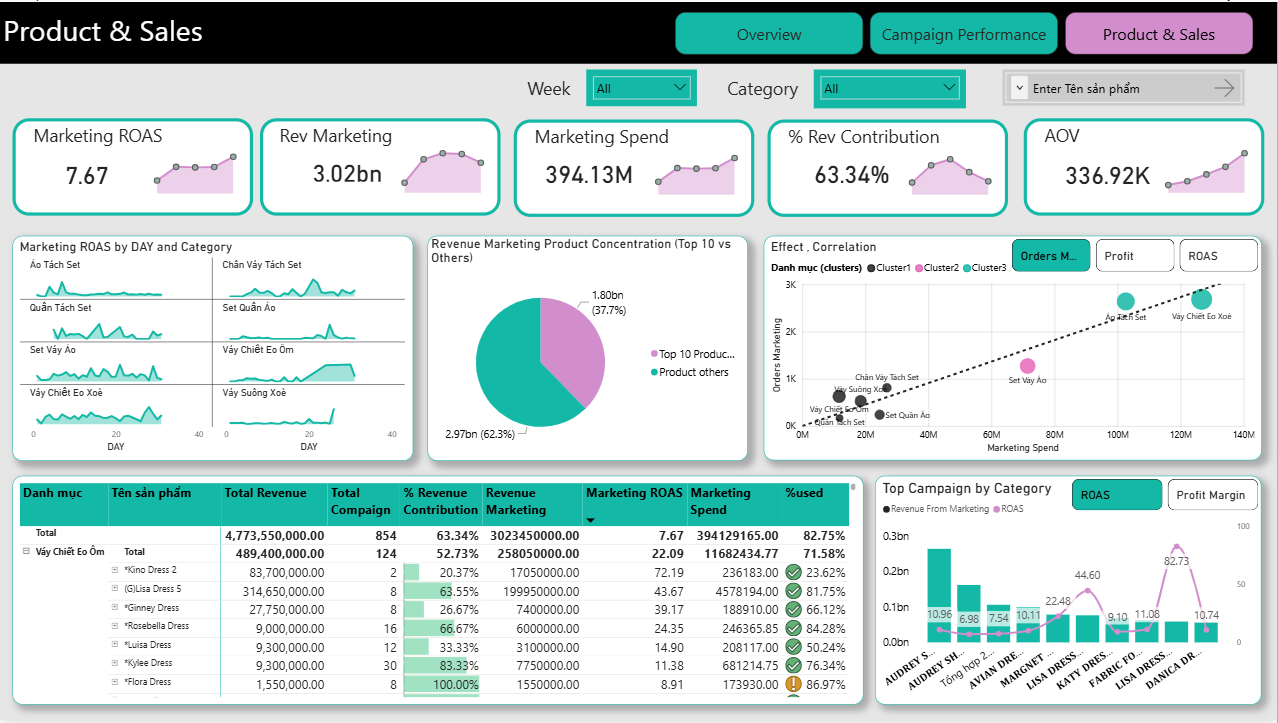

Layout of this report page (visuals, bound fields, positions):
{"tool":"powerbi","page":{"name":"Product & Sales ","canvas":[1920,1080],"ordinal":2},"visuals":[{"type":"textbox","box":[0,0,1920,93],"z":0},{"type":"textbox","box":[787.3,107.1,111.6,43.3],"z":0,"group":"g9"},{"type":"textbox","box":[1087.4,107.2,157.2,44.4],"z":0,"group":"g8"},{"type":"shape","box":[391.5,175.6,361.6,146.6],"z":0,"group":"g2"},{"type":"shape","box":[1539.1,175.6,361.6,146.6],"z":0,"group":"g5"},{"type":"group","id":"g1","title":"Group 1","box":[18.9,176.2,361.6,146.6],"z":0,"group":"g10"},{"type":"shape","box":[18.9,176.2,361.6,146.6],"z":0,"group":"g1"},{"type":"shape","box":[773,177.5,361.6,146.6],"z":0,"group":"g3"},{"type":"shape","box":[1153.9,177.5,361.6,146.6],"z":0,"group":"g4"},{"type":"scatterChart","title":"Effect , Correlation","fields":{"Y":["Measure.Orders From Marketing"],"Category":["danh sach san pham.Danh mục"],"Size":["Measure.Total Revenue"],"X":["Measure.Marketing Spend"],"Series":["danh sach san pham.Danh mục (clusters)"]},"box":[1147.3,351.6,749.2,337.9],"z":0,"group":"g6"},{"type":"lineStackedColumnComboChart","title":"Top Campaign by Category","fields":{"Y2":["Measure.Marketing ROAS"],"Y":["Measure.Revenue From Marketing"],"Category":["mkt_camp_cost.Tên chiến dịch"]},"box":[1315.6,713,580.6,343.8],"z":0,"group":"g7"},{"type":"textbox","box":[0,7,445.2,78.8],"z":1000},{"type":"slicer","fields":{"Values":["Dim_Date.Week"]},"box":[881.8,101.9,166.4,55.4],"z":1000,"group":"g9"},{"type":"slicer","fields":{"Values":["danh sach san pham.Danh mục"]},"box":[1221.8,101.9,229.1,58.6],"z":1000,"group":"g8"},{"type":"group","id":"g2","title":"Group 1","box":[391.5,175.6,361.4,147.3],"z":1000,"group":"g10"},{"type":"cardVisual","fields":{"Data":["Measure.Marketing ROAS"]},"box":[50.8,198.7,208.5,117.1],"z":1000,"group":"g1"},{"type":"cardVisual","fields":{"Data":["Measure.% Revenue Contribution"]},"box":[1177.3,199.3,220.4,113.3],"z":1000,"group":"g4"},{"type":"cardVisual","fields":{"Data":["Measure.AOV"]},"box":[1554.1,199.3,230.3,115.2],"z":1000,"group":"g5"},{"type":"cardVisual","fields":{"Data":["Measure.Marketing Spend"]},"box":[772.7,204.3,240.2,105.7],"z":1000,"group":"g3"},{"type":"cardVisual","fields":{"Data":["Measure.Revenue From Marketing"]},"box":[422.6,204.7,209.9,102.4],"z":1000,"group":"g2"},{"type":"advancedSlicerVisual","fields":{"Values":["Parameter_p33.Parameter_p33"]},"box":[1515.9,351.1,380,59.4],"z":1000,"group":"g6"},{"type":"advancedSlicerVisual","fields":{"Values":["Parameter_p3.Parameter_p3"]},"box":[1606.2,713.3,290.3,57.9],"z":1000,"group":"g7"},{"type":"group","id":"g3","title":"Group 1","box":[772.7,177.5,361.4,147.3],"z":2000,"group":"g10"},{"type":"lineChart","fields":{"Category":["Dim_Date.Week"],"Y":["Measure.Revenue From Marketing"]},"box":[591.8,209.2,147.6,84.3],"z":2000,"group":"g2"},{"type":"lineChart","fields":{"Category":["Dim_Date.Week"],"Y":["Measure.AOV"]},"box":[1739.4,209.2,147.6,84.3],"z":2000,"group":"g5"},{"type":"lineChart","fields":{"Category":["Dim_Date.Week"],"Y":["Measure.Marketing ROAS"]},"box":[219.2,209.8,147.6,84.3],"z":2000,"group":"g1"},{"type":"lineChart","fields":{"Category":["Dim_Date.Week"],"Y":["Measure.Marketing ROAS"]},"box":[973.3,211.1,147.6,84.3],"z":2000,"group":"g3"},{"type":"lineChart","fields":{"Category":["Dim_Date.Week"],"Y":["Measure.% Revenue Contribution"]},"box":[1354.2,211.1,147.6,84.3],"z":2000,"group":"g4"},{"type":"pieChart","title":"Revenue Marketing Product  Concentration (Top 10 vs Others)","fields":{"Y":["Measure.Top 10 Product Revenue","Measure.Product others"]},"box":[643.1,351.3,481.4,338.3],"z":2000},{"type":"textbox","box":[415,177.3,237.9,54.3],"z":3000,"group":"g2"},{"type":"textbox","box":[1565.8,177.3,234.1,54.3],"z":3000,"group":"g5"},{"type":"group","id":"g4","title":"Group 1","box":[1153.9,177.5,361.4,147.3],"z":3000,"group":"g10"},{"type":"textbox","box":[45.6,177.9,234.1,54.3],"z":3000,"group":"g1"},{"type":"textbox","box":[1179.3,178.7,266.1,54.7],"z":3000,"group":"g4"},{"type":"textbox","box":[799.7,179.2,234.1,54.3],"z":3000,"group":"g3"},{"type":"lineChart","title":"Marketing ROAS by DAY and Category","fields":{"Category":["Dim_Date.DAY","Dim_Date.Week"],"Y":["Measure.Marketing ROAS"],"Rows":["danh sach san pham.Danh mục"]},"box":[18.6,351.3,602.2,338.3],"z":3000},{"type":"group","id":"g5","title":"Group 1","box":[1539.1,175.6,361.6,146.6],"z":4000,"group":"g10"},{"type":"group","id":"g6","title":"Scatter","box":[1147.3,351.1,749.2,338.4],"z":4000},{"type":"pivotTable","fields":{"Rows":["danh sach san pham.Danh mục","danh sach san pham.Tên sản phẩm","danh sach san pham.Thương hiệu"],"Values":["Measure.Total Revenue","Measure.Total Compaign","Measure.% Revenue Contribution","Measure.Revenue From Marketing","Measure.Marketing ROAS","Measure.Marketing Spend","Measure.%used"]},"box":[18.1,713,1279.4,343.8],"z":5000},{"type":"group","id":"g7","title":"Top Campaign","box":[1315.6,713,580.9,343.8],"z":6000},{"type":"pageNavigator","box":[1015.5,14.7,871.7,64.5],"z":7000},{"type":"group","id":"g8","title":"Category","box":[1087.4,101.9,364.4,56.6],"z":8000},{"type":"group","id":"g9","title":"Week","box":[787.3,101.9,260.5,56.6],"z":9000},{"type":"group","id":"g10","title":"Group 2","box":[18.9,175.6,1882.2,149.1],"z":10000},{"type":"textSlicer","fields":{"Values":["danh sach san pham.Tên sản phẩm"]},"box":[1506.5,101.9,364.4,54.7],"z":11000}]}

Visuals, with their boxes in screenshot pixels (x1, y1, x2, y2), scaled from the page's 1920x1080 canvas onto the 1278x723 screenshot:
textbox: {"x1": 0, "y1": 0, "x2": 1277, "y2": 62}
textbox: {"x1": 524, "y1": 72, "x2": 598, "y2": 101}
textbox: {"x1": 724, "y1": 72, "x2": 828, "y2": 101}
shape: {"x1": 261, "y1": 118, "x2": 501, "y2": 216}
shape: {"x1": 1024, "y1": 118, "x2": 1265, "y2": 216}
"Group 1" group: {"x1": 13, "y1": 118, "x2": 253, "y2": 216}
shape: {"x1": 13, "y1": 118, "x2": 253, "y2": 216}
shape: {"x1": 515, "y1": 119, "x2": 755, "y2": 217}
shape: {"x1": 768, "y1": 119, "x2": 1009, "y2": 217}
"Effect , Correlation" scatterChart: {"x1": 764, "y1": 235, "x2": 1262, "y2": 462}
"Top Campaign by Category" lineStackedColumnComboChart: {"x1": 876, "y1": 477, "x2": 1262, "y2": 707}
textbox: {"x1": 0, "y1": 5, "x2": 296, "y2": 57}
slicer - Dim_Date.Week: {"x1": 587, "y1": 68, "x2": 698, "y2": 105}
slicer - danh sach san pham.Danh mục: {"x1": 813, "y1": 68, "x2": 966, "y2": 107}
"Group 1" group: {"x1": 261, "y1": 118, "x2": 501, "y2": 216}
cardVisual - Measure.Marketing ROAS: {"x1": 34, "y1": 133, "x2": 173, "y2": 211}
cardVisual - Measure.% Revenue Contribution: {"x1": 784, "y1": 133, "x2": 930, "y2": 209}
cardVisual - Measure.AOV: {"x1": 1034, "y1": 133, "x2": 1188, "y2": 211}
cardVisual - Measure.Marketing Spend: {"x1": 514, "y1": 137, "x2": 674, "y2": 208}
cardVisual - Measure.Revenue From Marketing: {"x1": 281, "y1": 137, "x2": 421, "y2": 206}
advancedSlicerVisual - Parameter_p33.Parameter_p33: {"x1": 1009, "y1": 235, "x2": 1262, "y2": 275}
advancedSlicerVisual - Parameter_p3.Parameter_p3: {"x1": 1069, "y1": 478, "x2": 1262, "y2": 516}
"Group 1" group: {"x1": 514, "y1": 119, "x2": 755, "y2": 217}
lineChart - Dim_Date.Week x Measure.Revenue From Marketing: {"x1": 394, "y1": 140, "x2": 492, "y2": 196}
lineChart - Dim_Date.Week x Measure.AOV: {"x1": 1158, "y1": 140, "x2": 1256, "y2": 196}
lineChart - Dim_Date.Week x Measure.Marketing ROAS: {"x1": 146, "y1": 140, "x2": 244, "y2": 197}
lineChart - Dim_Date.Week x Measure.Marketing ROAS: {"x1": 648, "y1": 141, "x2": 746, "y2": 198}
lineChart - Dim_Date.Week x Measure.% Revenue Contribution: {"x1": 901, "y1": 141, "x2": 1000, "y2": 198}
"Revenue Marketing Product  Concentration (Top 10 vs Others)" pieChart: {"x1": 428, "y1": 235, "x2": 748, "y2": 462}
textbox: {"x1": 276, "y1": 119, "x2": 435, "y2": 155}
textbox: {"x1": 1042, "y1": 119, "x2": 1198, "y2": 155}
"Group 1" group: {"x1": 768, "y1": 119, "x2": 1009, "y2": 217}
textbox: {"x1": 30, "y1": 119, "x2": 186, "y2": 155}
textbox: {"x1": 785, "y1": 120, "x2": 962, "y2": 156}
textbox: {"x1": 532, "y1": 120, "x2": 688, "y2": 156}
"Marketing ROAS by DAY and Category" lineChart: {"x1": 12, "y1": 235, "x2": 413, "y2": 462}
"Group 1" group: {"x1": 1024, "y1": 118, "x2": 1265, "y2": 216}
"Scatter" group: {"x1": 764, "y1": 235, "x2": 1262, "y2": 462}
pivotTable - danh sach san pham.Danh mục x danh sach san pham.Tên sản phẩm: {"x1": 12, "y1": 477, "x2": 864, "y2": 707}
"Top Campaign" group: {"x1": 876, "y1": 477, "x2": 1262, "y2": 707}
pageNavigator: {"x1": 676, "y1": 10, "x2": 1256, "y2": 53}
"Category" group: {"x1": 724, "y1": 68, "x2": 966, "y2": 106}
"Week" group: {"x1": 524, "y1": 68, "x2": 697, "y2": 106}
"Group 2" group: {"x1": 13, "y1": 118, "x2": 1265, "y2": 217}
textSlicer - danh sach san pham.Tên sản phẩm: {"x1": 1003, "y1": 68, "x2": 1245, "y2": 105}
